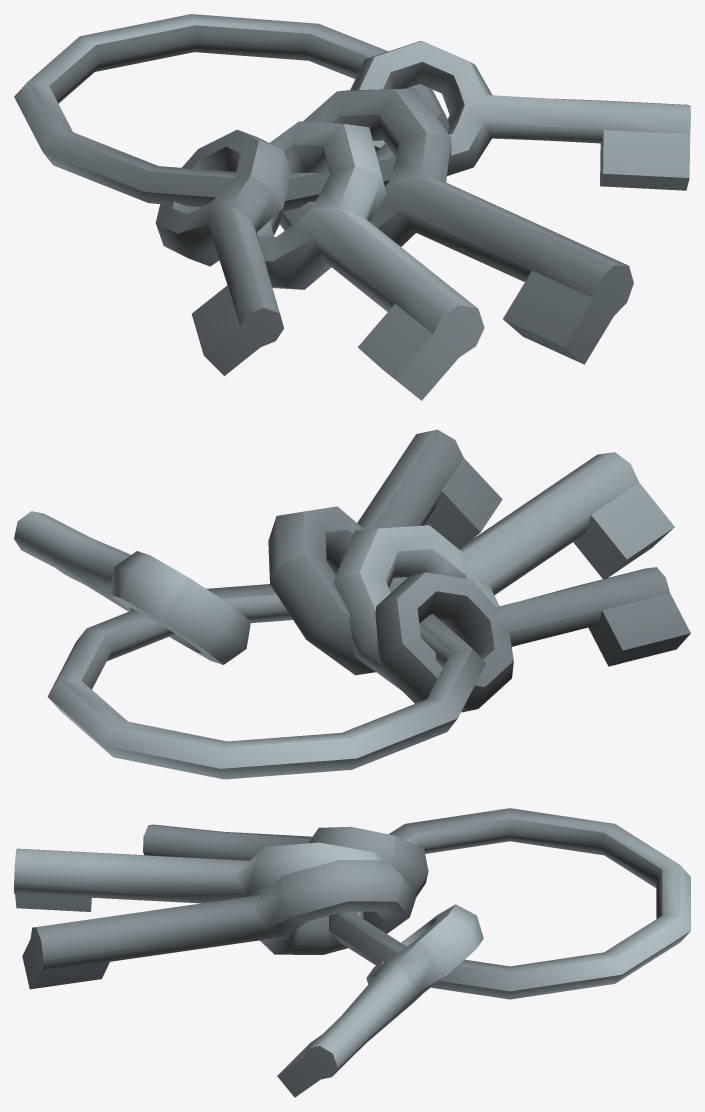
Rendered from keyring.obj.
3 views of the same model, one above another, from view 1: azimuth 30°, elevation 25°; view 2: azimuth 150°, elevation 25°; view 3: azimuth 270°, elevation 25° (orthographic). The views are drawn at different scales.
Visible parts, largest first — view 1: keyring; view 2: keyring; view 3: keyring.
Boxes of the visible parts, left/top/right/bottom form: keyring: left=14, top=14, right=690, bottom=400; keyring: left=14, top=429, right=690, bottom=779; keyring: left=14, top=808, right=690, bottom=1097.
Bounding box in the file's own units: 1.03 × 0.2614 × 1.21.
Materials: 1 (1 with a texture image).
